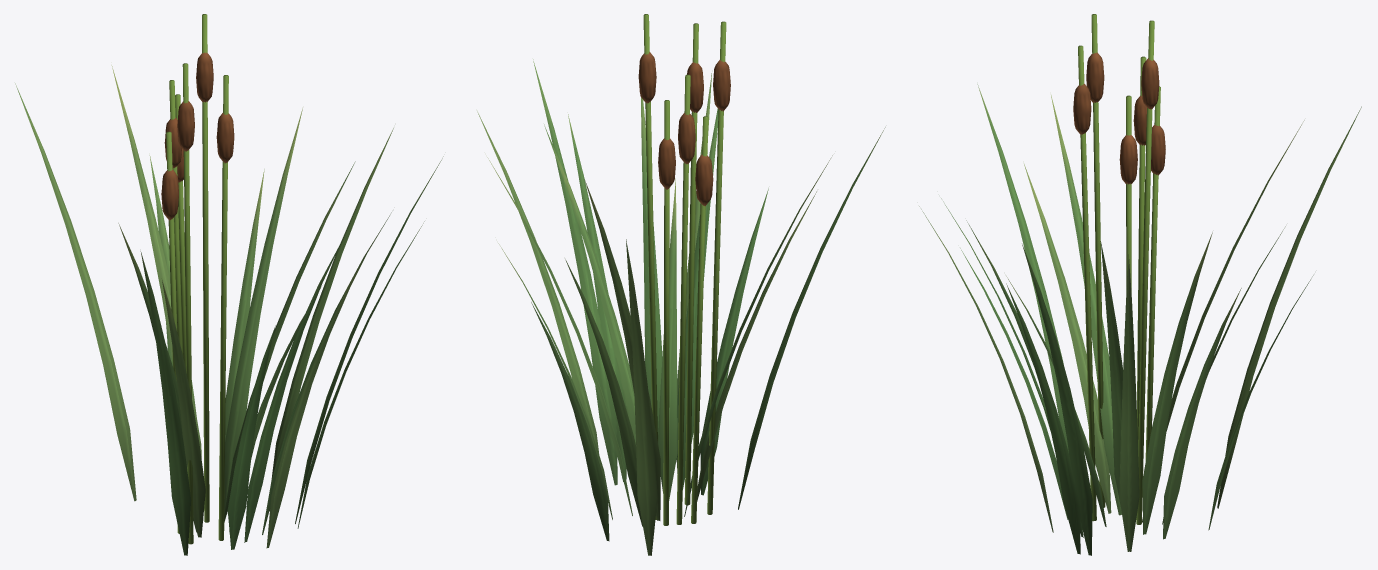
The model's file is cattail.glb.
3 views of the same model, side by side, from view 1: azimuth 30°, elevation 25°; view 2: azimuth 150°, elevation 25°; view 3: azimuth 270°, elevation 25° (orthographic).
Parts seen in each view (by area): view 1: Cattail_leaf; view 2: Cattail_leaf; view 3: Cattail_leaf.
Part boxes in pixels (x1=…): Cattail_leaf: x1=15, y1=14, x2=443, y2=555; Cattail_leaf: x1=477, y1=14, x2=885, y2=555; Cattail_leaf: x1=919, y1=14, x2=1361, y2=555.
Size of the model in its own units: 1.12 by 1.62 by 1.3.
1 material, 1 textured.
